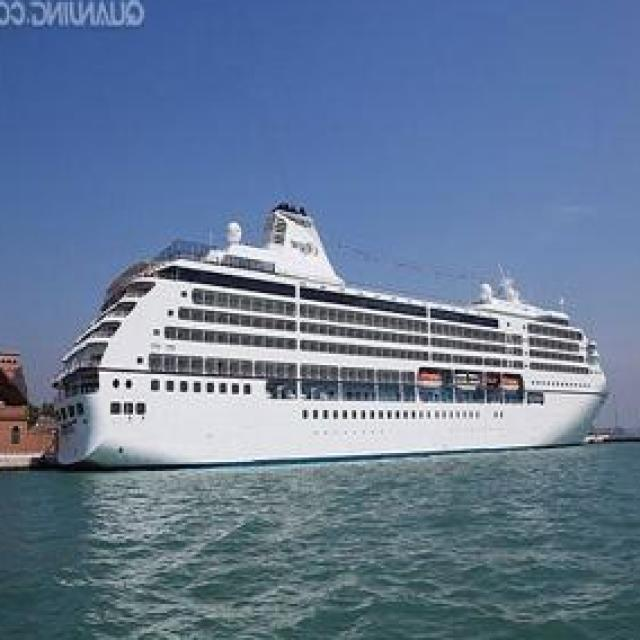passenger ship: (50, 230, 608, 470)
